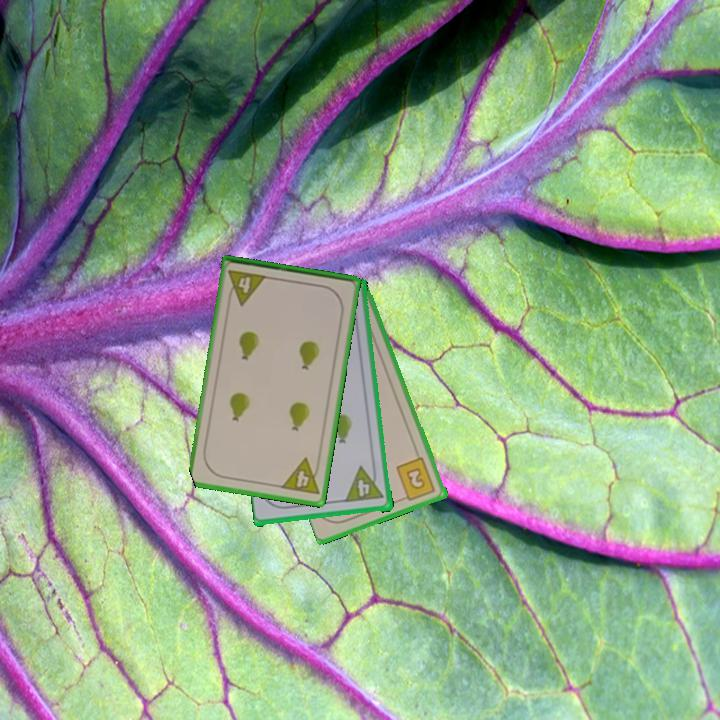2b: (393, 454, 438, 504)
4p: (277, 454, 323, 498), (224, 266, 270, 308), (342, 465, 375, 502)
